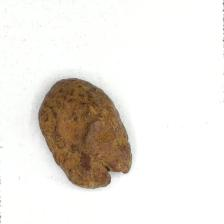NG: (78, 149, 132, 189)
